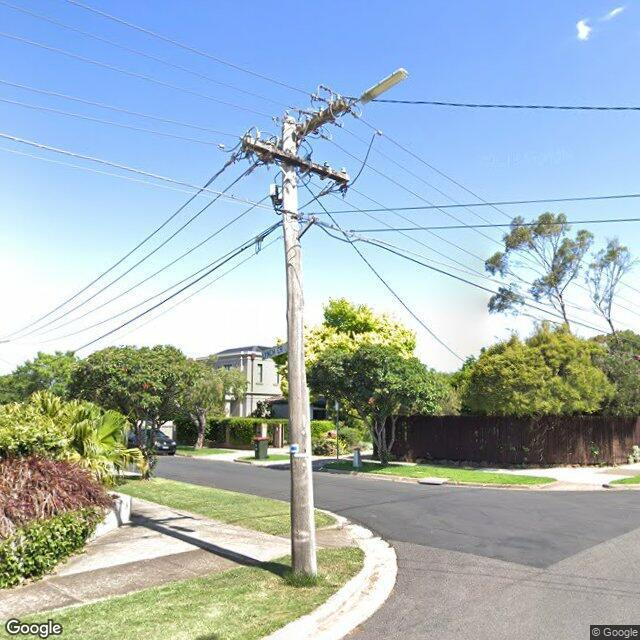crossarm: (258, 99, 349, 162), (242, 136, 350, 183)
streetlight: (347, 68, 410, 109)
timber-pole: (283, 116, 317, 577)
